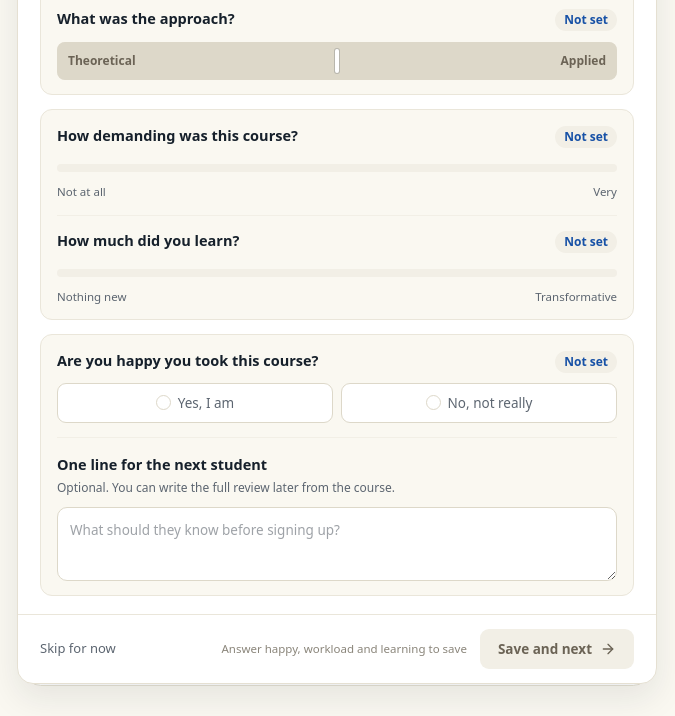
Test case: the card stack › will not save until happy, workload and learning are answered
(page scrolled)
Expected: the button "Save and next" is disabled, left=480, top=629, right=634, bottom=669
Click the button "Yes, I am" at (195, 403), box left=57, top=383, right=333, bottom=423
(page scrolled)
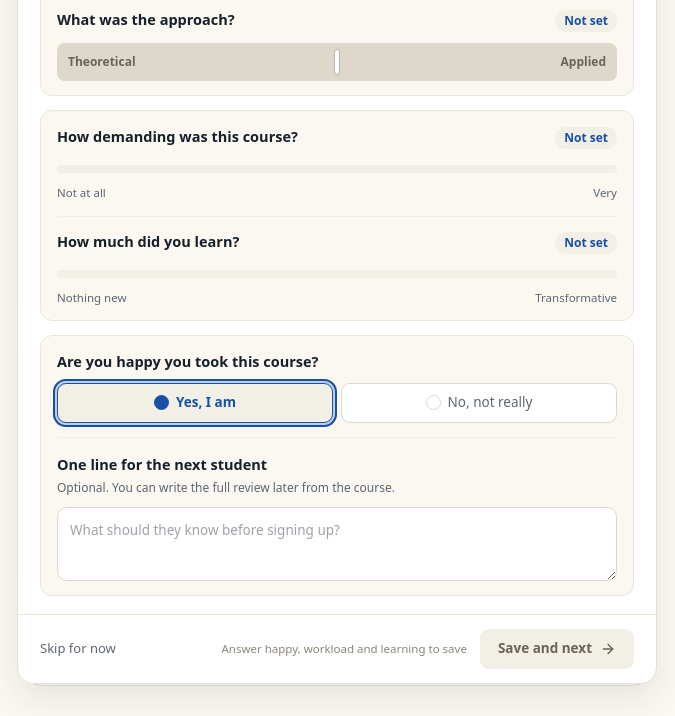
Set the slider labelled "How demanding was this course?" to "8" at (337, 164), box left=57, top=126, right=617, bottom=202
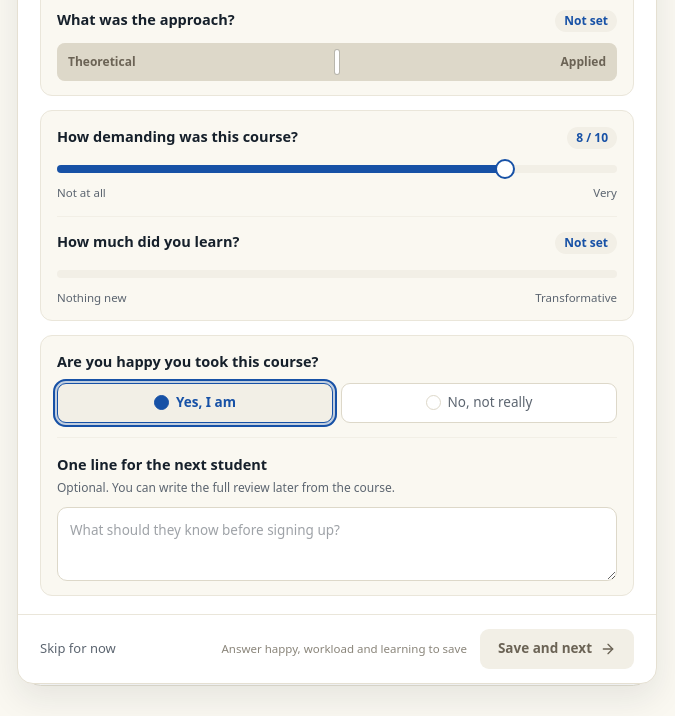
Set the slider labelled "How much did you learn?" to "5" at (337, 268), box left=57, top=230, right=617, bottom=306
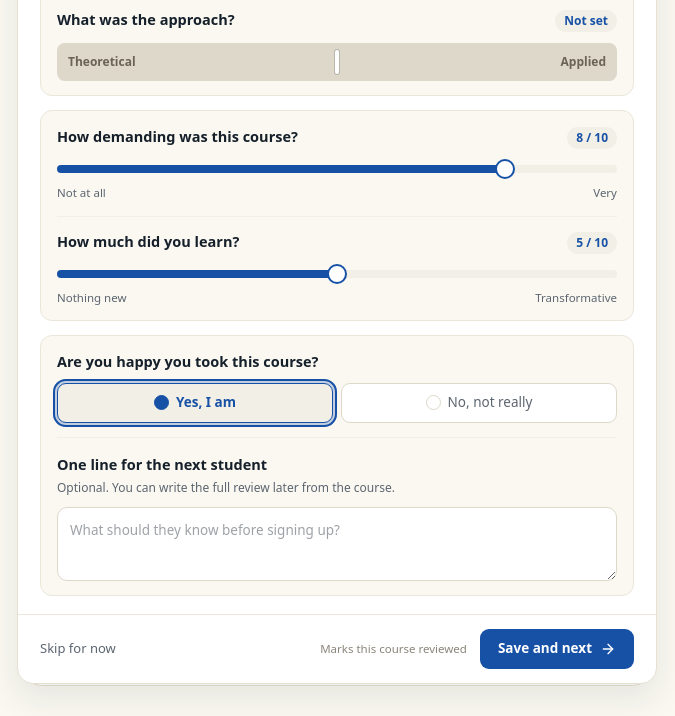
Expected: the button "Save and next" is enabled, left=480, top=628, right=634, bottom=668
